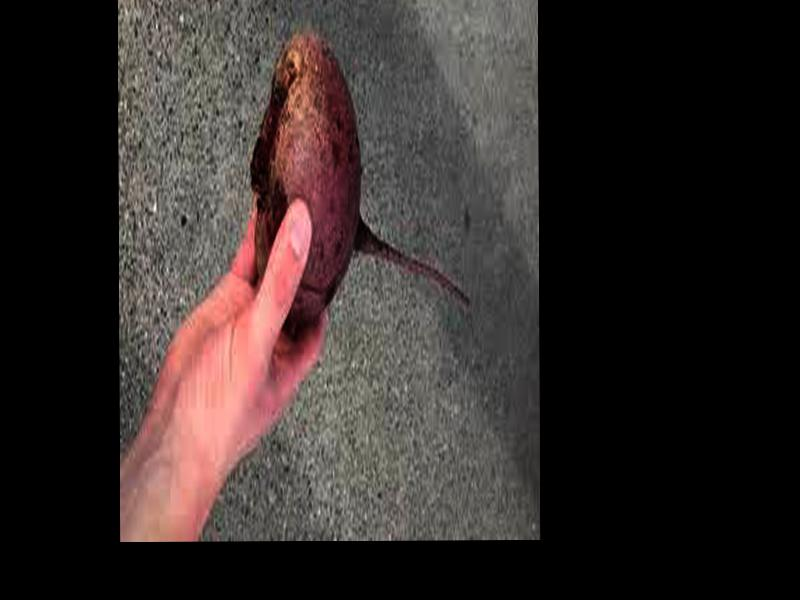Beet: (250, 33, 468, 317)
